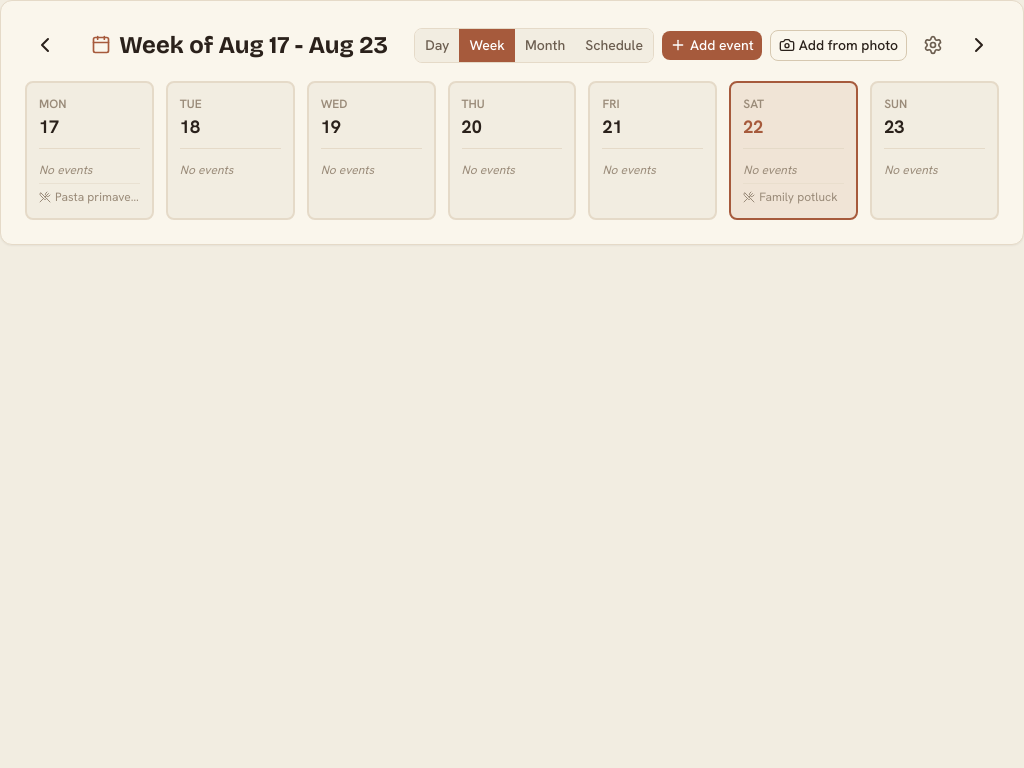
Scenario: WeekCalendar — interactions › event management › shows "Add from photo" to a parent when configured, and opens the modal
Click the button "Add from photo". click: (838, 45)
box: [770, 30, 907, 60]
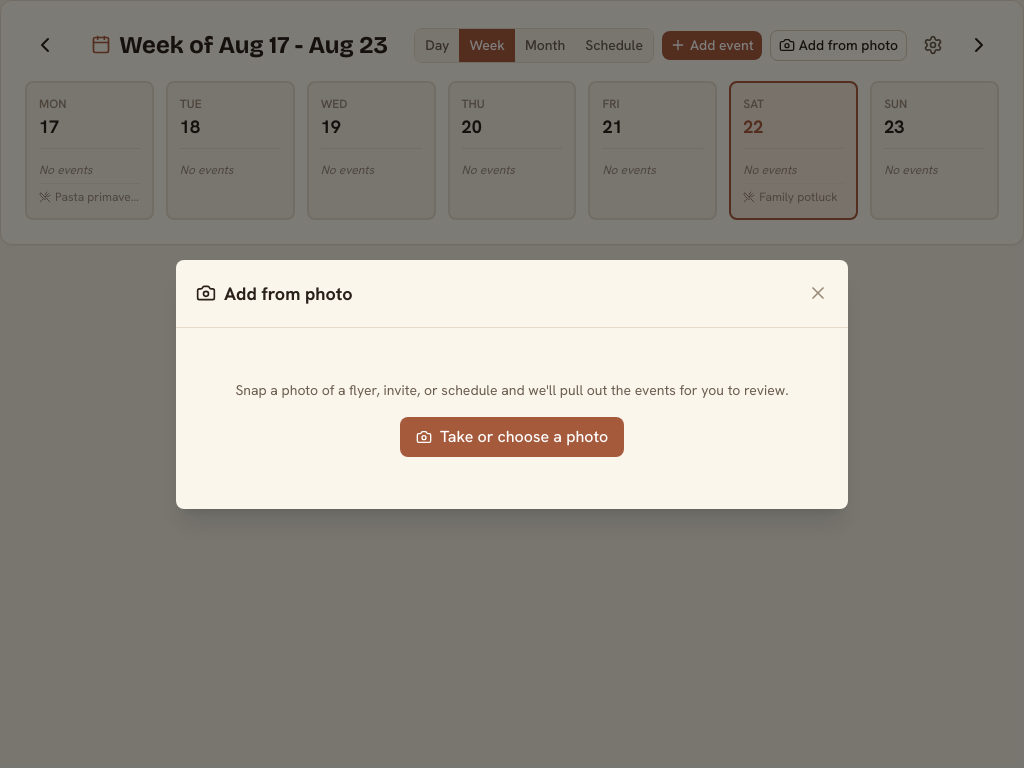
Expected: the heading "Add from photo" is shown, [196, 280, 352, 306]
